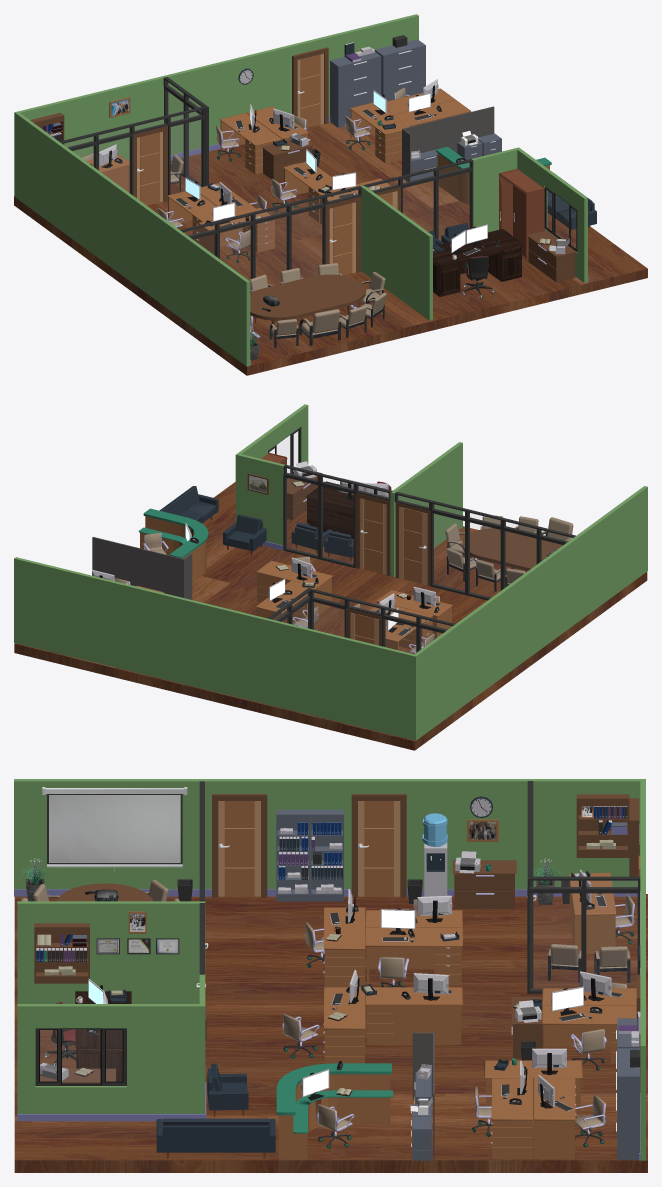
File: office.glb
The picture shows the model from 3 angles, top to bottom: view 1: azimuth 30°, elevation 25°; view 2: azimuth 150°, elevation 25°; view 3: azimuth 270°, elevation 25°; orthographic projection. The views are drawn at different scales.
Visible parts, largest first — view 1: Object_4, Object_8, Object_10, Object_13, Object_43, Object_103, Object_435, Object_1140, Object_385, Object_17, Object_15, Object_793 (+8 smaller); view 2: Object_4, Object_8, Object_10, Object_13, Object_43, Object_17, Object_26, Object_435, Object_45, Object_15, Object_1140, Object_11; view 3: Object_8, Object_4, Object_10, Object_43, Object_1043, Object_13, Object_103, Object_15, Object_26, Object_435, Object_793, Object_11 (+13 smaller).
Boxes of the visible parts, x1=… form: Object_4: x1=14, y1=14, x2=587, y2=366; Object_8: x1=14, y1=122, x2=647, y2=375; Object_10: x1=86, y1=54, x2=549, y2=275; Object_13: x1=53, y1=35, x2=577, y2=289; Object_43: x1=30, y1=47, x2=576, y2=327; Object_103: x1=52, y1=39, x2=501, y2=180; Object_435: x1=81, y1=87, x2=405, y2=337; Object_1140: x1=433, y1=229, x2=523, y2=296; Object_385: x1=499, y1=168, x2=590, y2=258; Object_17: x1=402, y1=106, x2=494, y2=181; Object_15: x1=47, y1=42, x2=569, y2=255; Object_793: x1=171, y1=112, x2=575, y2=247; Object_4: x1=14, y1=404, x2=647, y2=740; Object_8: x1=14, y1=482, x2=647, y2=750; Object_10: x1=136, y1=499, x2=452, y2=650; Object_13: x1=190, y1=427, x2=575, y2=652; Object_43: x1=247, y1=458, x2=562, y2=646; Object_17: x1=92, y1=537, x2=192, y2=599; Object_26: x1=159, y1=486, x2=435, y2=626; Object_435: x1=115, y1=515, x2=573, y2=651; Object_45: x1=350, y1=498, x2=427, y2=645; Object_15: x1=92, y1=461, x2=440, y2=636; Object_1140: x1=305, y1=481, x2=389, y2=538; Object_11: x1=138, y1=508, x2=208, y2=558; Object_8: x1=14, y1=894, x2=647, y2=1172; Object_4: x1=14, y1=779, x2=645, y2=1160; Object_10: x1=128, y1=801, x2=640, y2=1159; Object_43: x1=34, y1=794, x2=640, y2=1104; Object_1043: x1=42, y1=787, x2=187, y2=894; Object_13: x1=35, y1=781, x2=640, y2=1147; Object_103: x1=72, y1=809, x2=639, y2=1160; Object_15: x1=36, y1=798, x2=640, y2=1111; Object_26: x1=95, y1=796, x2=640, y2=1152; Object_435: x1=17, y1=879, x2=634, y2=1131; Object_793: x1=41, y1=1029, x2=121, y2=1082; Object_11: x1=44, y1=864, x2=632, y2=1148.
Size of what is drawn, in the model's own units: 10.1 by 2.25 by 10.12.
44 materials, 16 textured.
